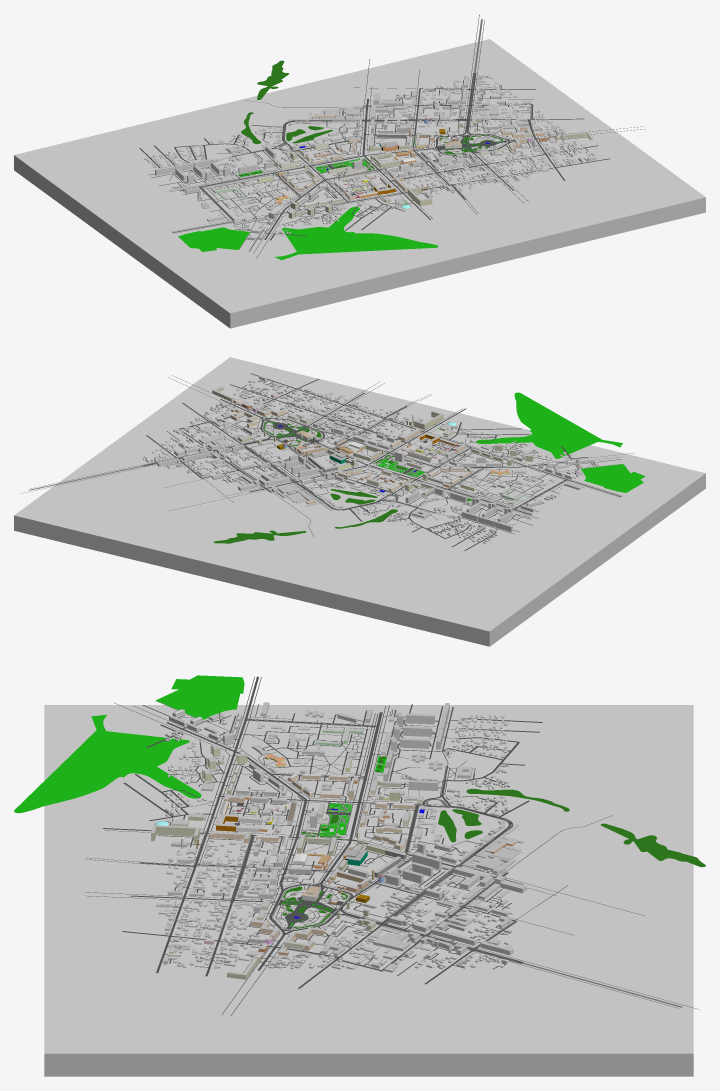
Rendered from mariopol.fbx.
3 renders of one model, top to bottom at view 1: azimuth 30°, elevation 25°; view 2: azimuth 150°, elevation 25°; view 3: azimuth 270°, elevation 25°, orthographic. The views are drawn at different scales.
Parts seen in each view (by area): view 1: Cube, map_3.osm_buildings, map_3.osm_vegetation, map_3.osm_paths_footway, map_3.osm_roads_service, map_3.osm_roads_residential, map_3.osm_forest, map_3.osm_roads_secondary, map_3.osm_roads_tertiary; view 2: Cube, map_3.osm_buildings, map_3.osm_vegetation, map_3.osm_paths_footway, map_3.osm_roads_service, map_3.osm_roads_residential, map_3.osm_forest, map_3.osm_roads_tertiary, map_3.osm_roads_secondary; view 3: Cube, map_3.osm_buildings, map_3.osm_vegetation, map_3.osm_paths_footway, map_3.osm_roads_service, map_3.osm_roads_residential, map_3.osm_forest, map_3.osm_roads_secondary, map_3.osm_roads_tertiary, map_3.osm_railways, map_3.osm_areas_pedestrian.
Part boxes in pixels (left/top/right/bottom): Cube: left=14, top=39, right=705, bottom=328; map_3.osm_buildings: left=144, top=74, right=596, bottom=240; map_3.osm_vegetation: left=178, top=136, right=507, bottom=260; map_3.osm_paths_footway: left=169, top=14, right=644, bottom=258; map_3.osm_roads_service: left=148, top=76, right=588, bottom=251; map_3.osm_roads_residential: left=139, top=88, right=597, bottom=240; map_3.osm_forest: left=239, top=60, right=502, bottom=176; map_3.osm_roads_secondary: left=264, top=73, right=561, bottom=239; map_3.osm_roads_tertiary: left=172, top=104, right=609, bottom=232; Cube: left=14, top=357, right=705, bottom=646; map_3.osm_buildings: left=143, top=375, right=598, bottom=543; map_3.osm_vegetation: left=257, top=392, right=645, bottom=501; map_3.osm_paths_footway: left=21, top=375, right=633, bottom=536; map_3.osm_roads_service: left=144, top=380, right=621, bottom=534; map_3.osm_roads_residential: left=146, top=379, right=587, bottom=550; map_3.osm_forest: left=213, top=422, right=471, bottom=543; map_3.osm_roads_tertiary: left=179, top=373, right=621, bottom=496; map_3.osm_roads_secondary: left=142, top=399, right=577, bottom=492; Cube: left=44, top=705, right=693, bottom=1076; map_3.osm_buildings: left=151, top=702, right=526, bottom=979; map_3.osm_vegetation: left=14, top=675, right=386, bottom=926; map_3.osm_paths_footway: left=85, top=676, right=699, bottom=1015; map_3.osm_roads_service: left=142, top=704, right=512, bottom=975; map_3.osm_roads_residential: left=122, top=718, right=542, bottom=988; map_3.osm_forest: left=282, top=756, right=705, bottom=928; map_3.osm_roads_secondary: left=166, top=722, right=523, bottom=970; map_3.osm_roads_tertiary: left=103, top=676, right=494, bottom=972; map_3.osm_railways: left=384, top=799, right=682, bottom=1007; map_3.osm_areas_pedestrian: left=279, top=808, right=371, bottom=929.
Bounding box in the file's own units: 252852 × 26525 × 211901.
